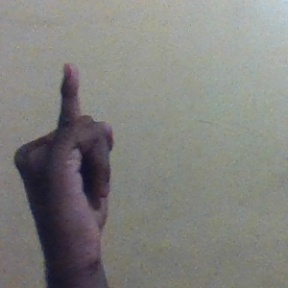I: (11, 61, 129, 262)
